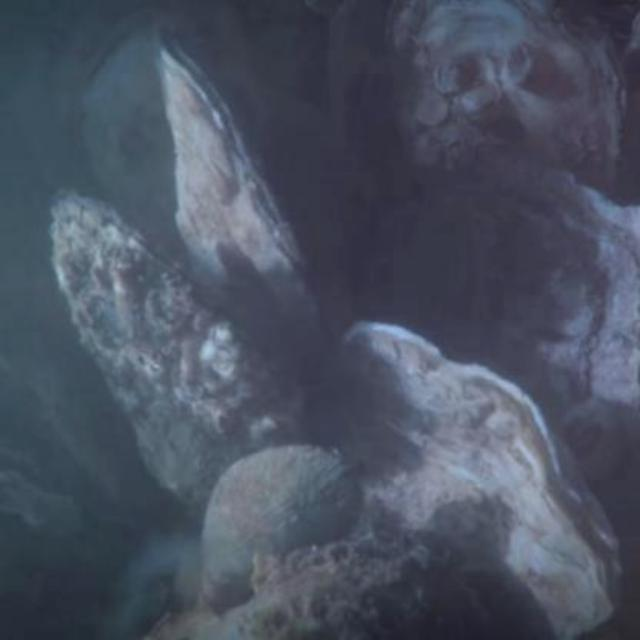Oyster-Closed: (324, 324, 617, 640), (94, 27, 339, 385), (377, 152, 640, 481), (59, 199, 310, 504)
